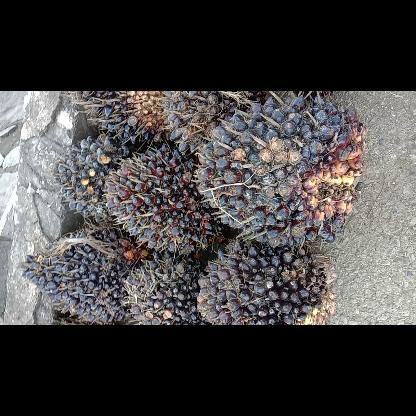TBS mentah: (195, 96, 370, 247), (98, 145, 232, 254), (20, 226, 156, 324), (196, 234, 338, 324), (50, 132, 140, 230), (157, 90, 269, 156), (121, 252, 217, 324), (74, 90, 180, 144)
